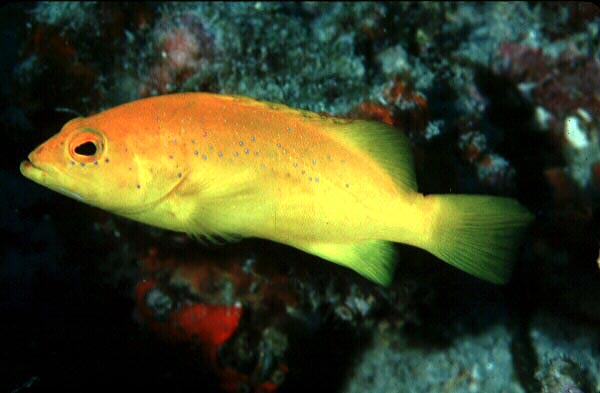Cephalopholis_fulvaw: (13, 81, 542, 295)
